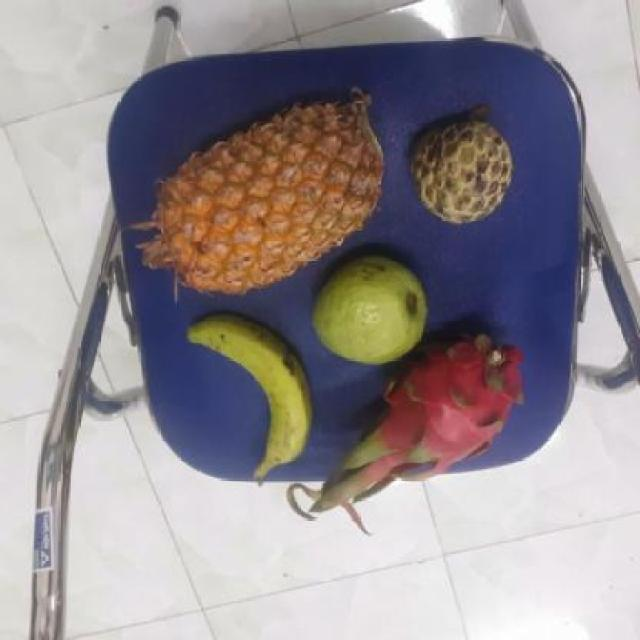banana: (180, 310, 315, 475)
dragon fruit: (358, 333, 511, 476)
guava: (305, 250, 429, 368)
pineapple: (143, 92, 385, 296)
sugar apple: (405, 115, 512, 222)
